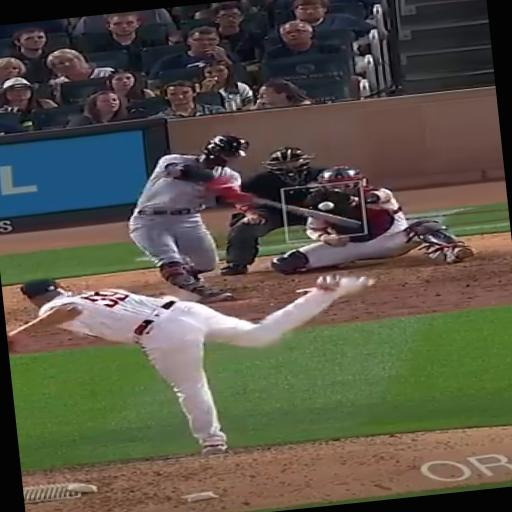bat: (255, 198, 361, 229)
